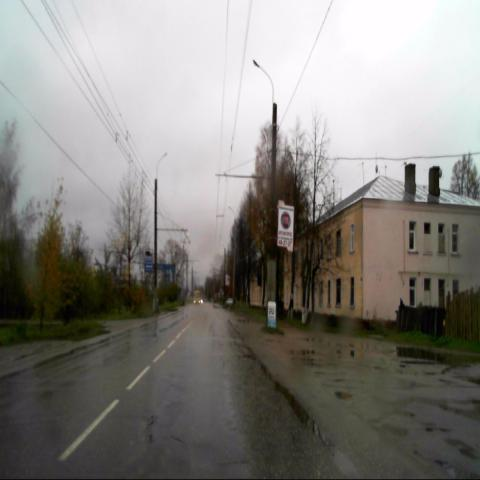8_4_1: (144, 247, 154, 259)
